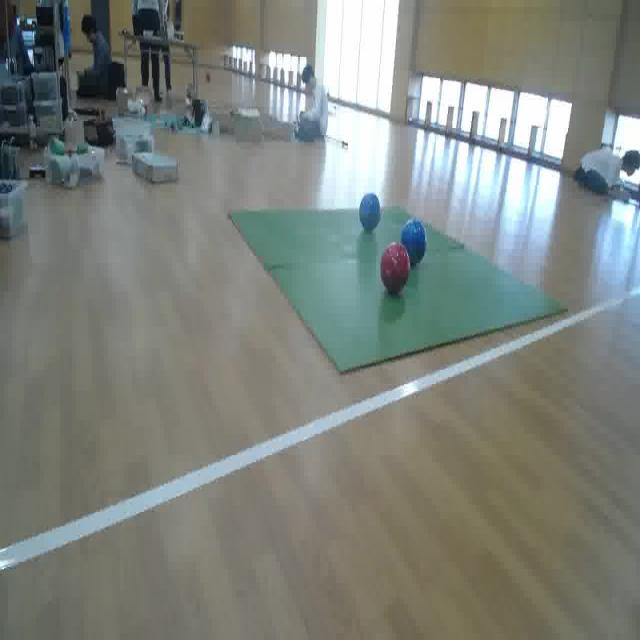blue_ball: (357, 189, 383, 234), (401, 219, 428, 262)
red_ball: (379, 240, 410, 294)
